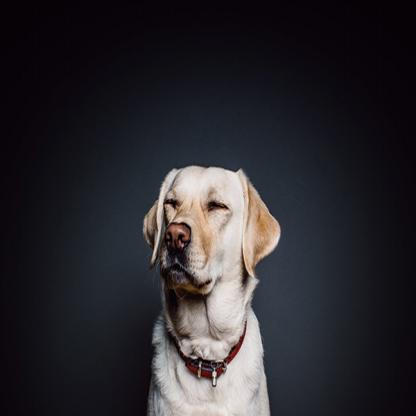Labarador Retriever: (140, 163, 282, 416)
